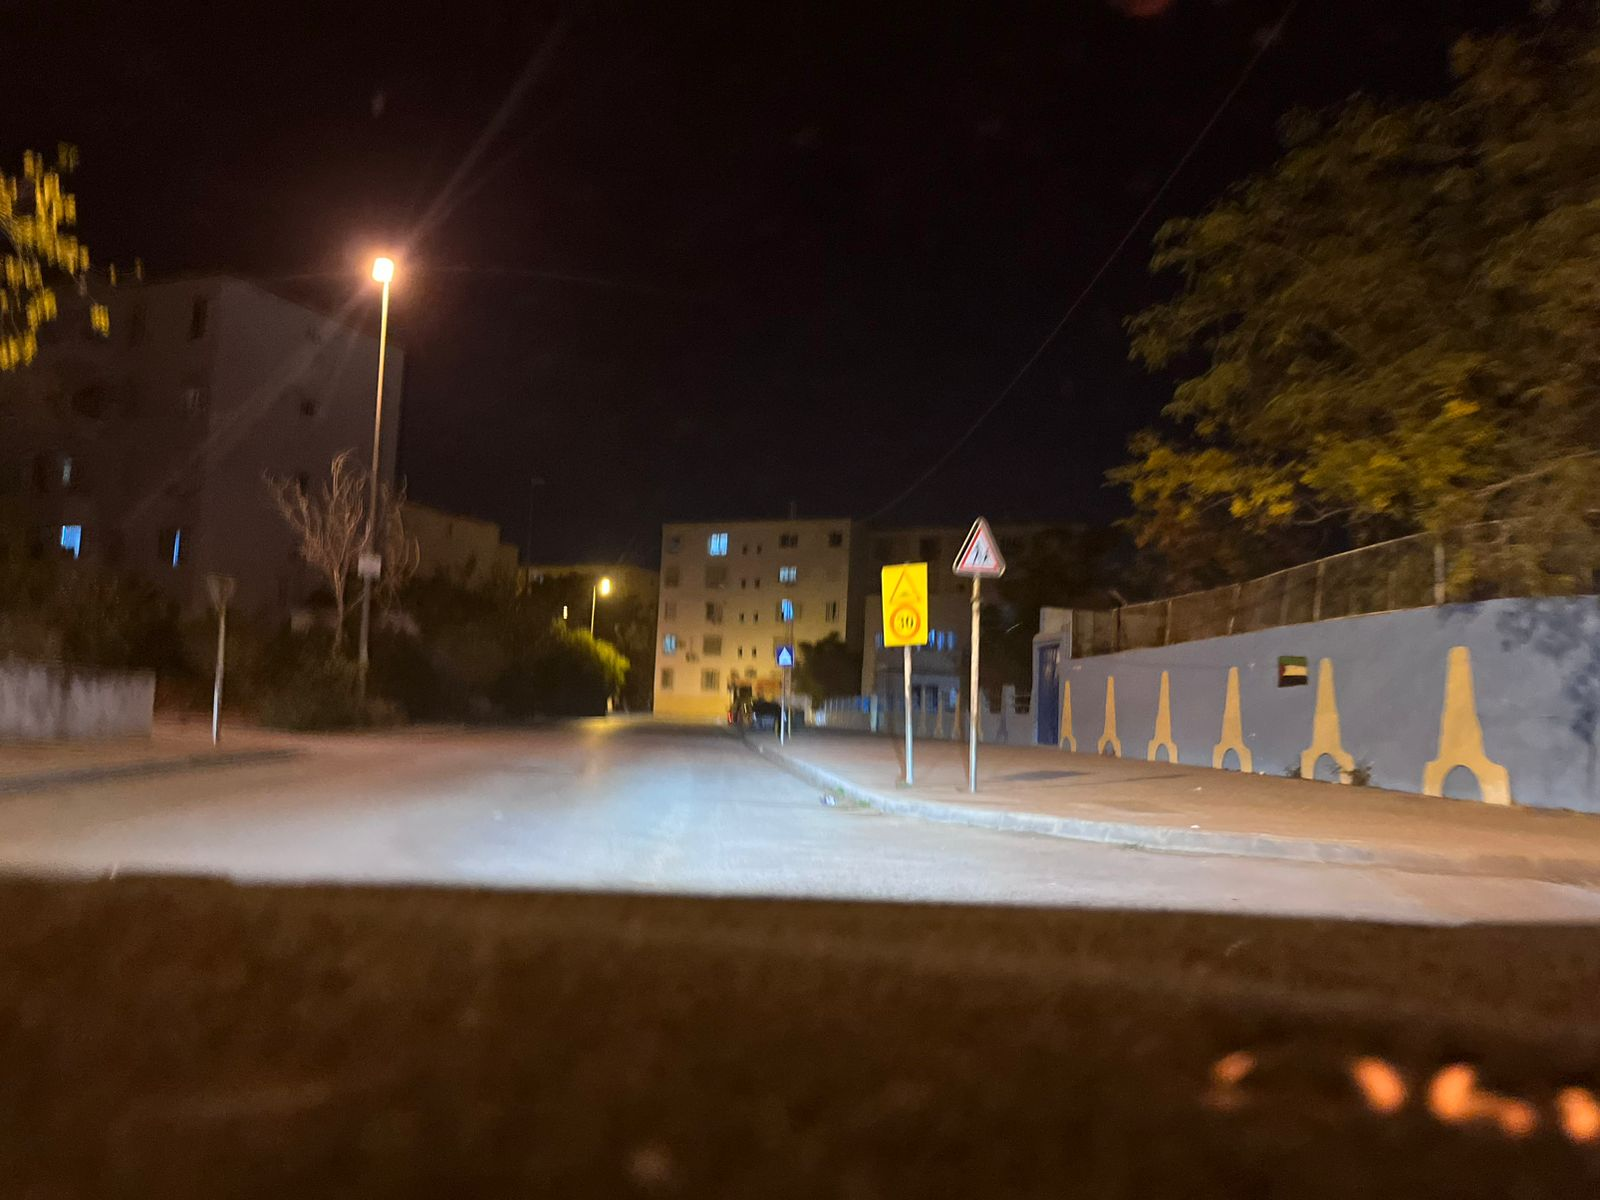SpeedLimit30: (882, 562, 927, 648)
